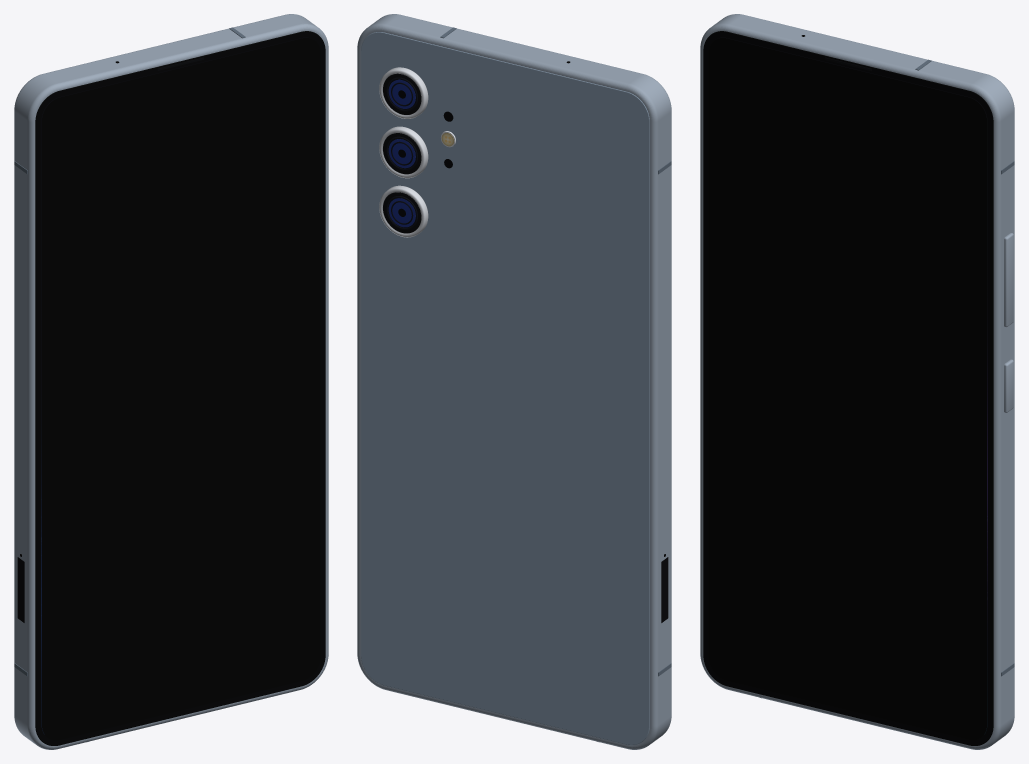
Rendered from nexphone-vertical.glb.
3 views of the same model, side by side, from view 1: azimuth 30°, elevation 25°; view 2: azimuth 150°, elevation 25°; view 3: azimuth 330°, elevation 25° (orthographic).
Size of the model in its own units: 0.7796 by 1.63 by 0.1076.
15 materials, 2 textured.
